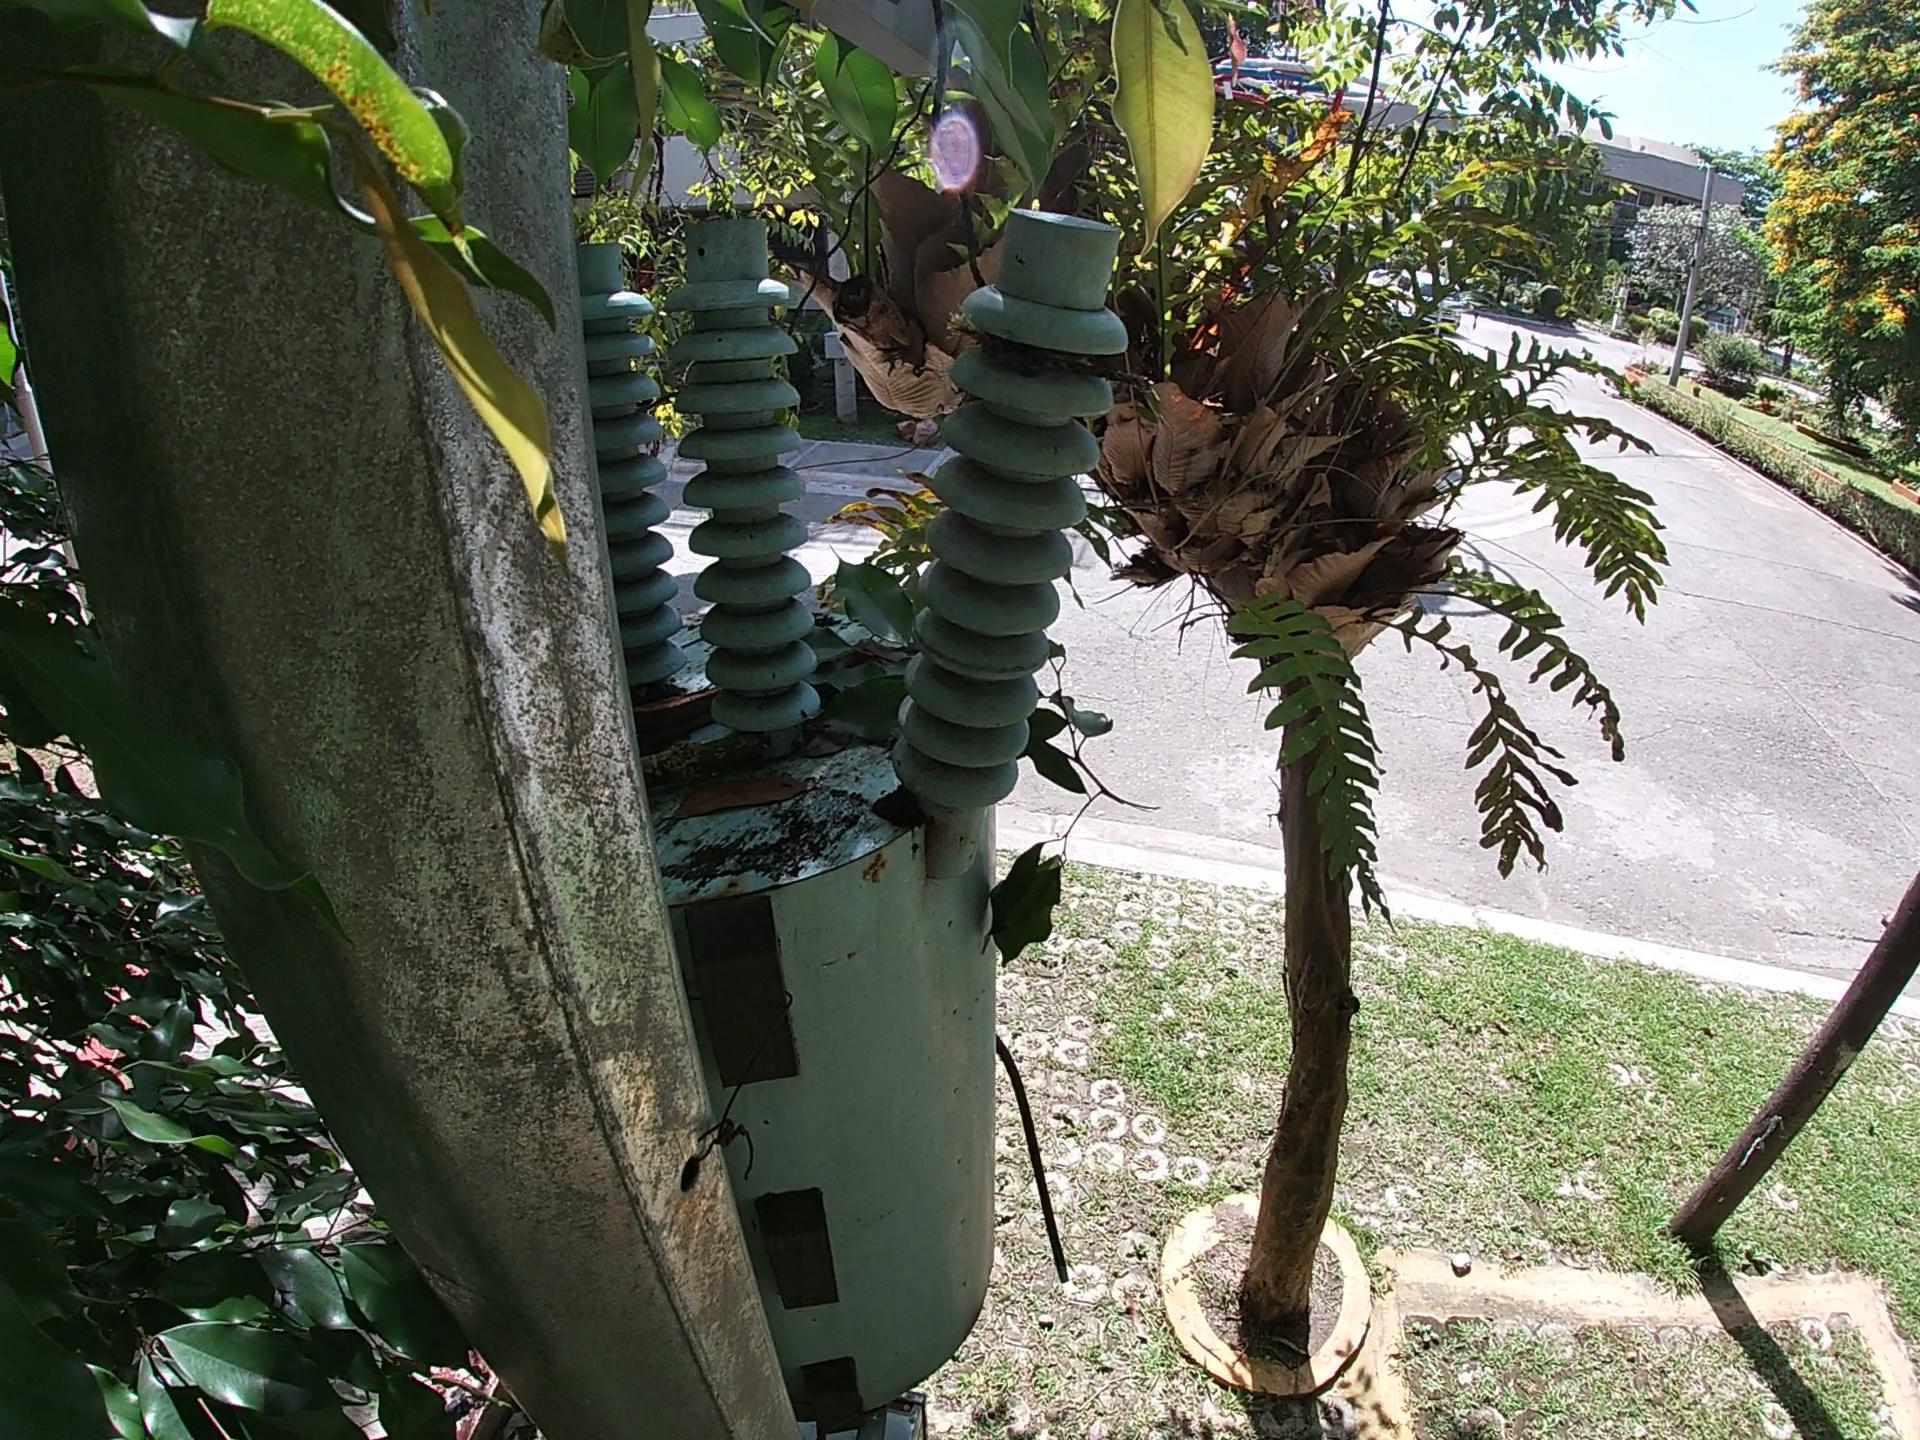branch with leaves: (984, 629, 1150, 988)
leaf: (816, 540, 916, 728), (661, 779, 807, 817)
mahogany fruit: (618, 675, 717, 728)
tree branch: (621, 734, 809, 768)
